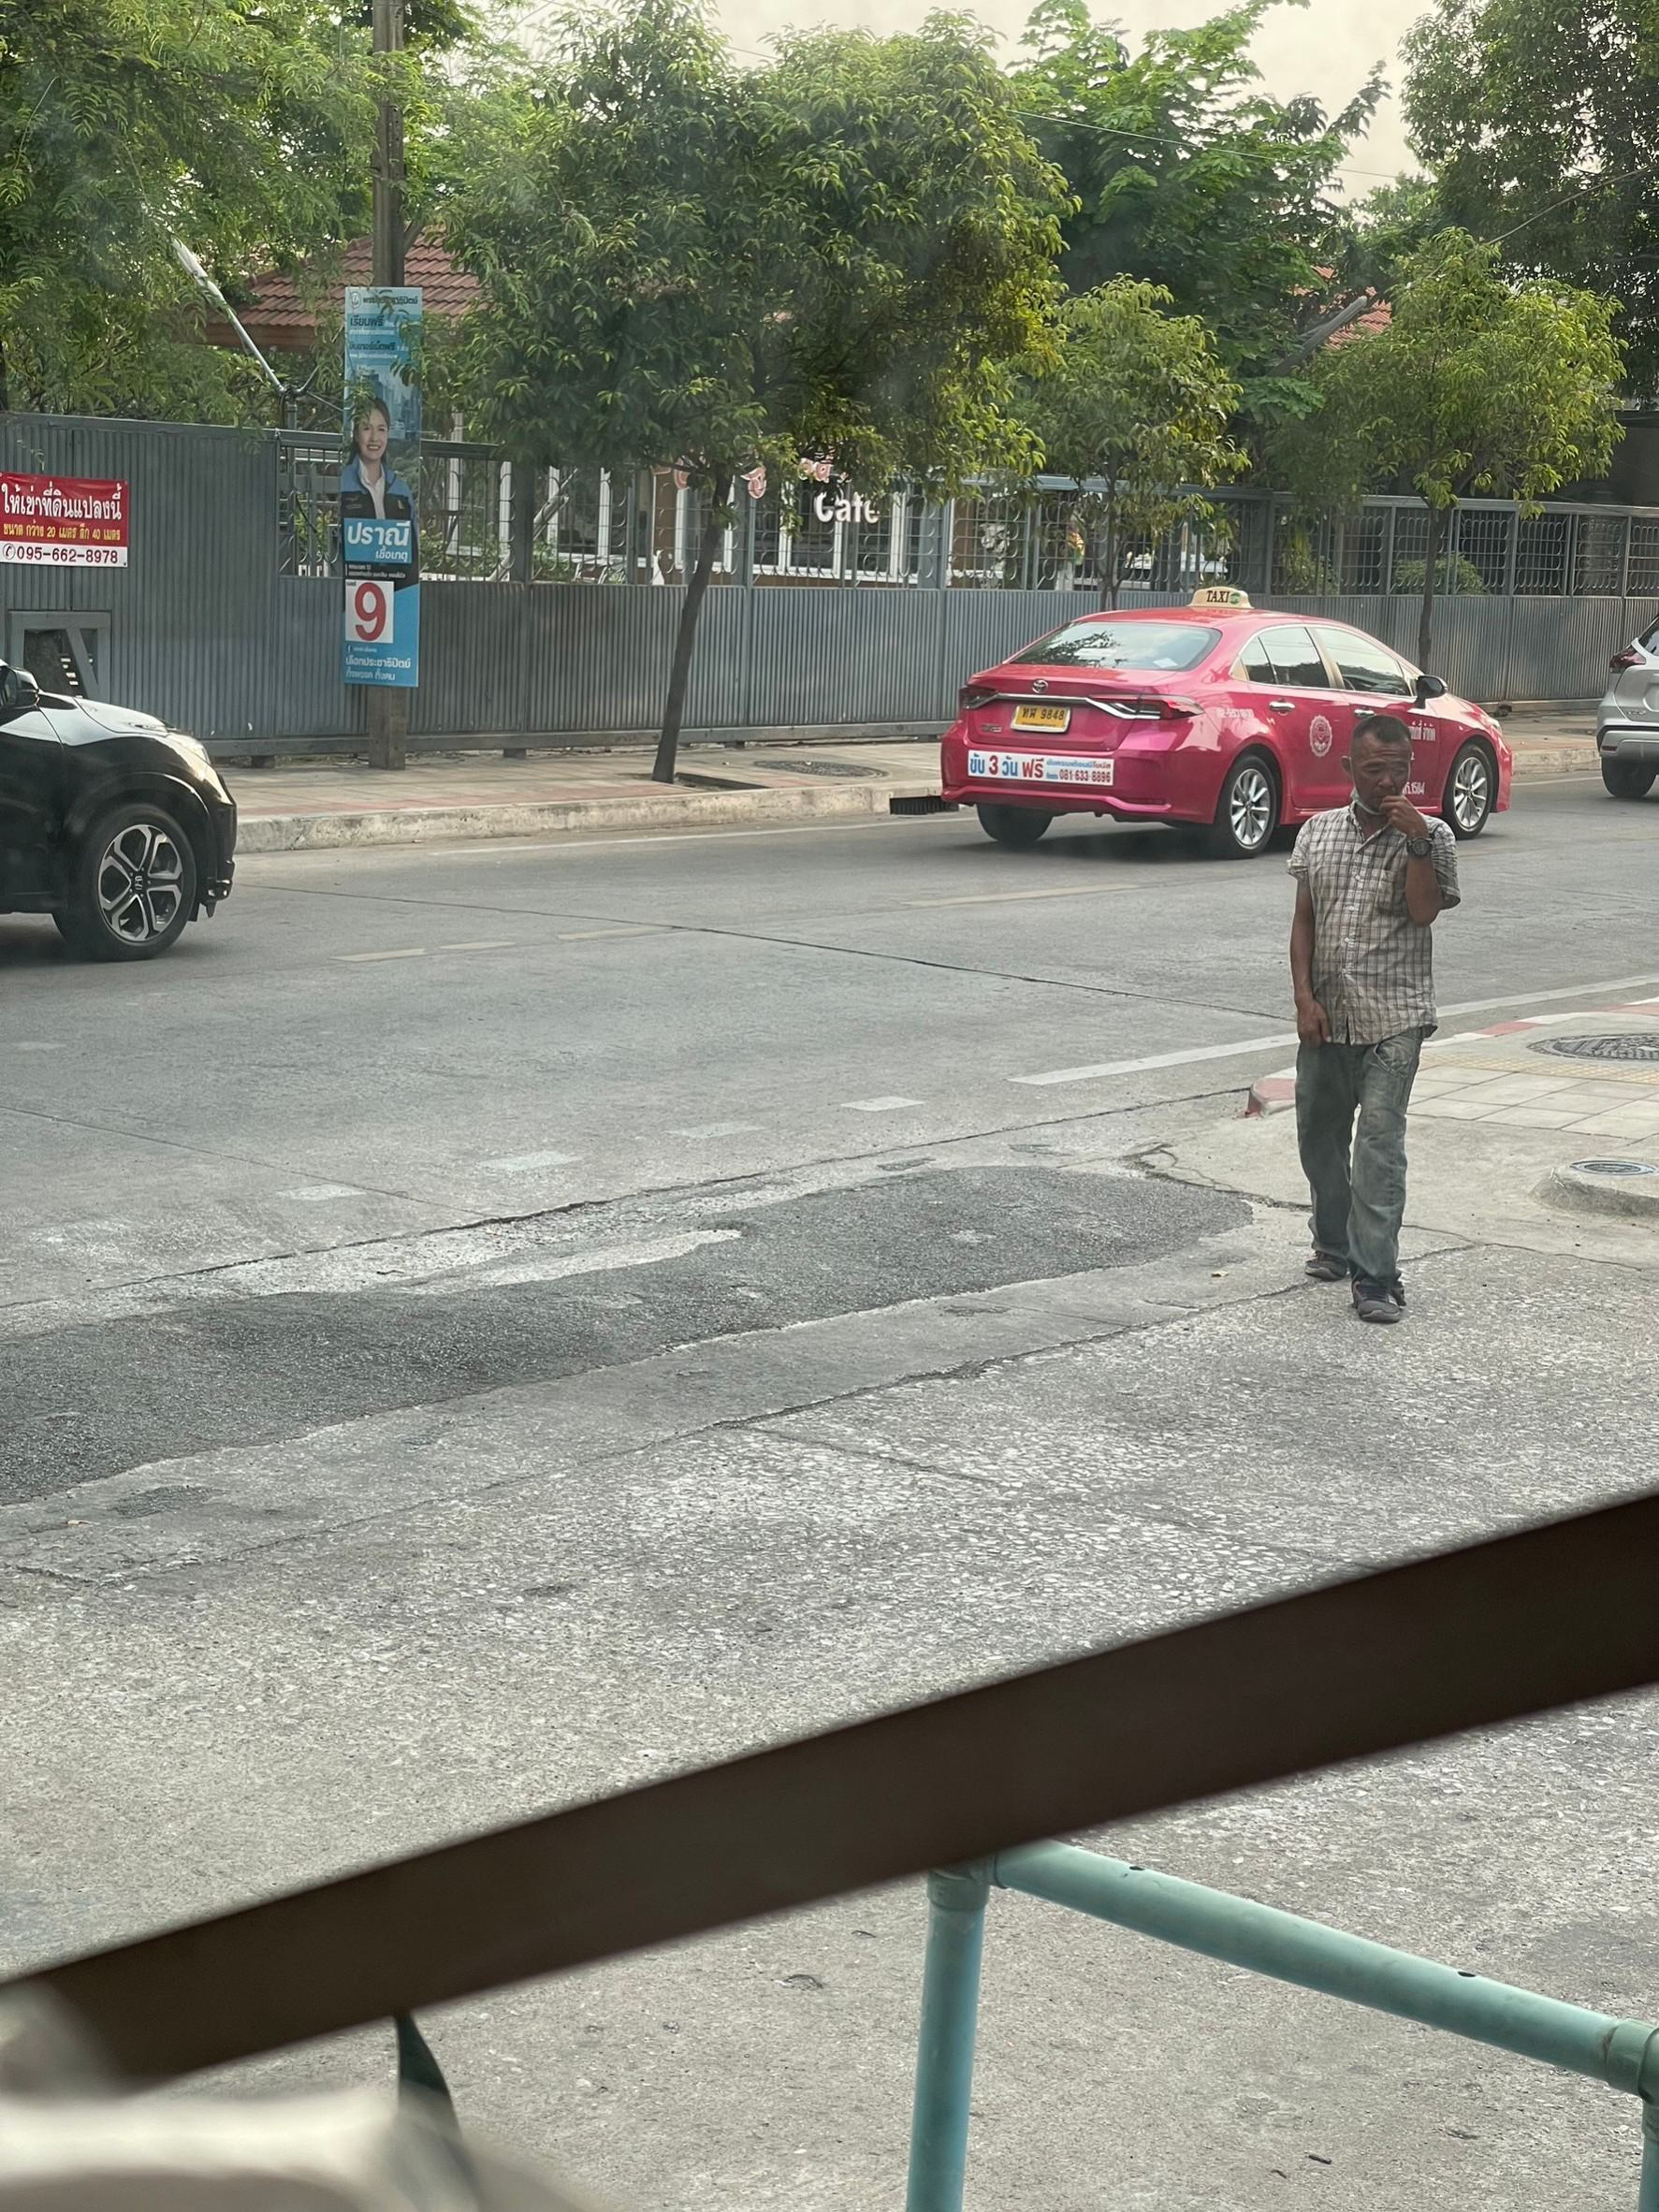Banner: (324, 266, 432, 669)
